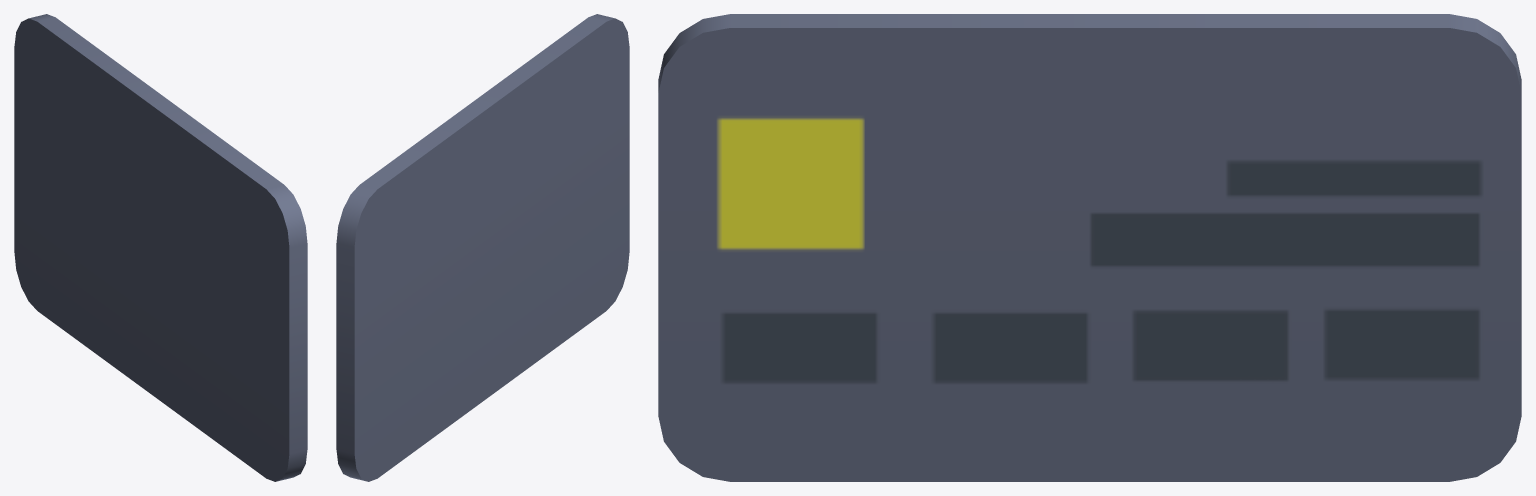
File: Card.fbx
3 renders of one model, left to right at view 1: azimuth 30°, elevation 25°; view 2: azimuth 150°, elevation 25°; view 3: azimuth 270°, elevation 25°, orthographic. The views are drawn at different scales.
Parts seen in each view (by area): view 1: Card; view 2: Card; view 3: Card.
Part boxes in pixels (bbox=[...]): Card: bbox=[14, 14, 307, 481]; Card: bbox=[336, 14, 629, 481]; Card: bbox=[658, 14, 1521, 481].
Bounding box in the file's own units: 4.94 × 75.39 × 130.
